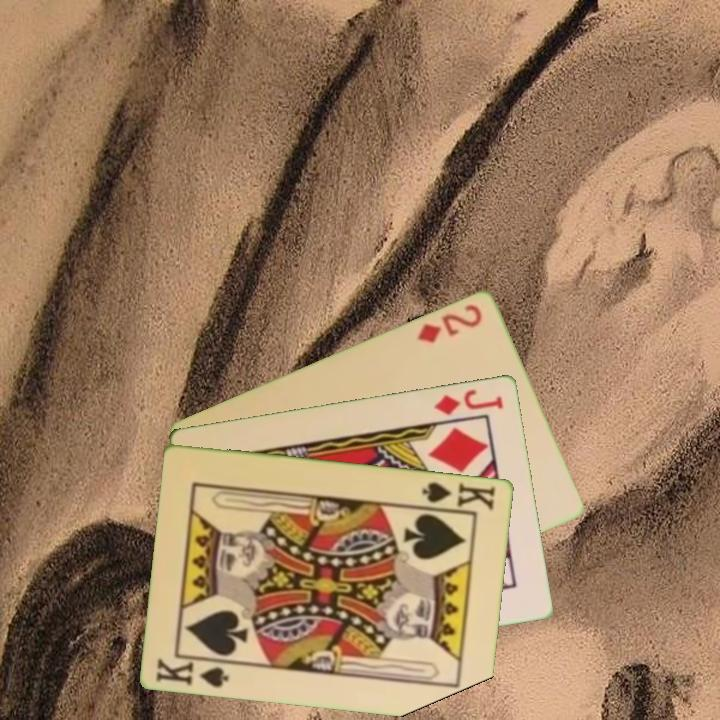2d: (413, 300, 486, 346)
Jd: (430, 385, 507, 417)
Ks: (153, 653, 236, 690), (417, 478, 499, 514)
